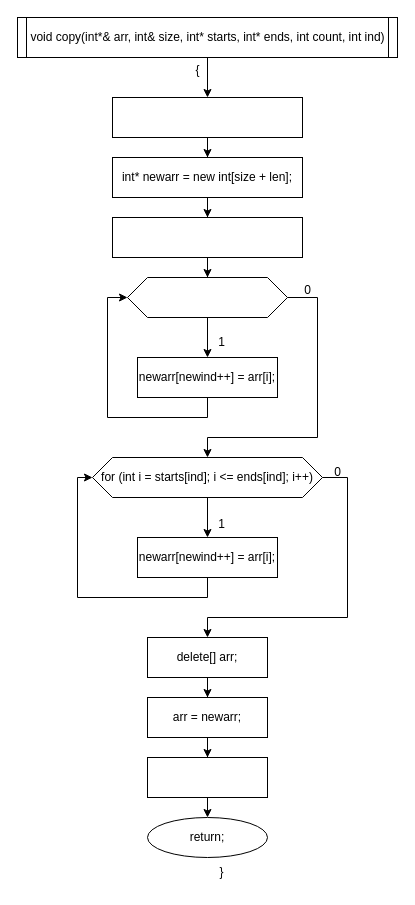
This 415x905 diagram has some shape labels left out. The centre of each missing label's shape, as x and y in pixels:
for (int i = 0; i < size; i++): point 207,297
int len = ends[ind] - starts[ind] + 1;: point 207,117
int newind = 0;: point 207,237
size = size + len;: point 207,777
